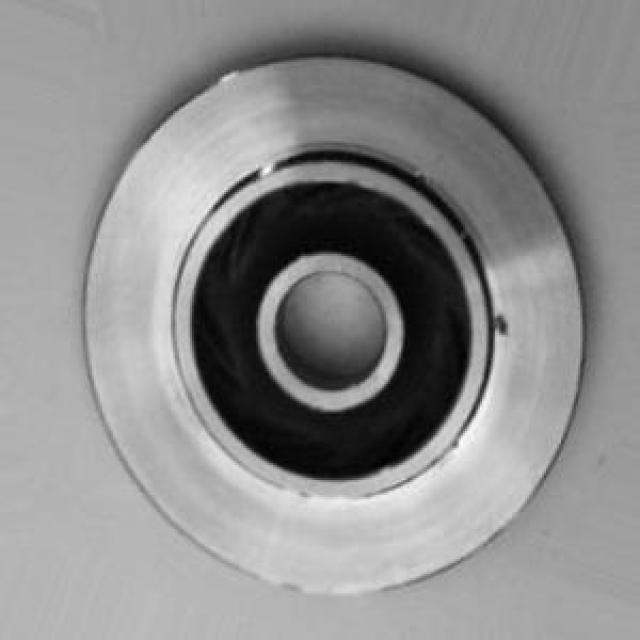Defect: (490, 307, 519, 343)
